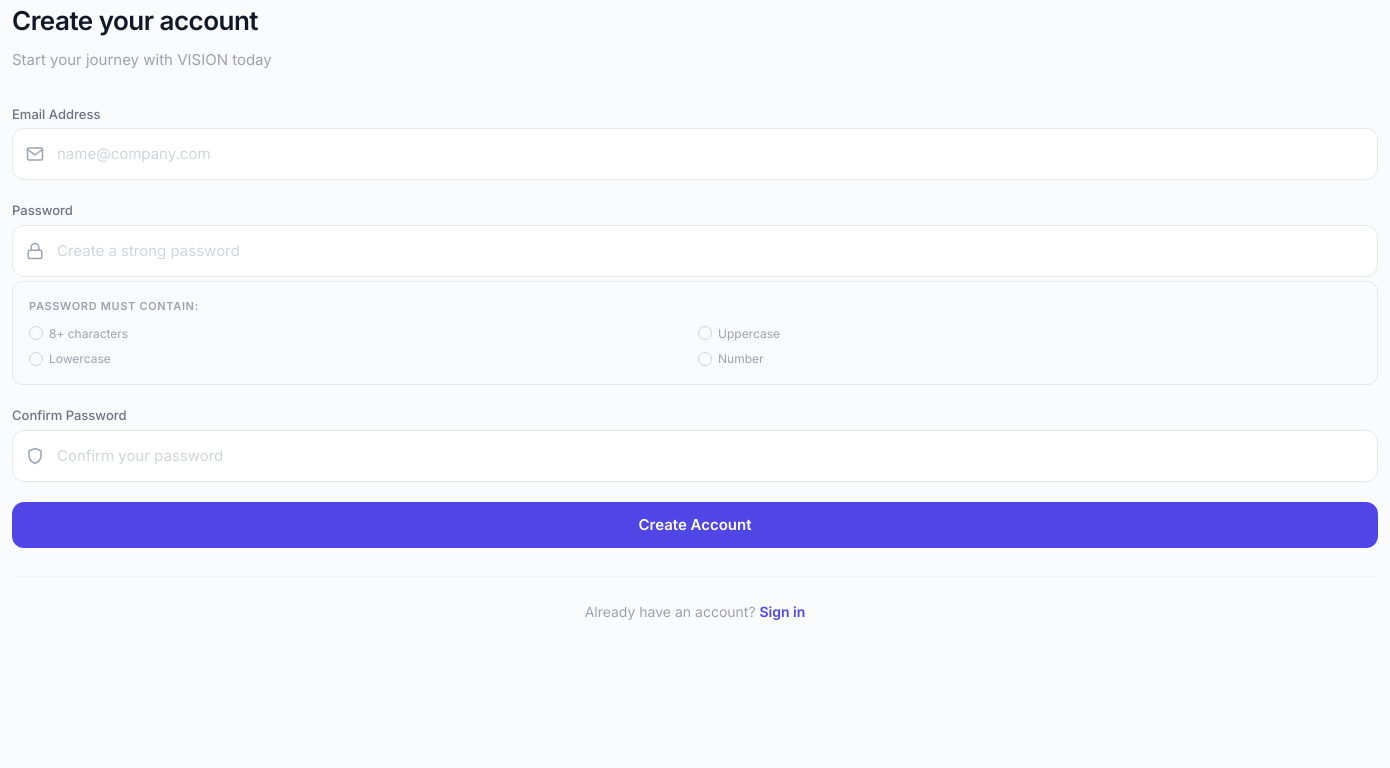
Test: RegisterForm › should show validation error for empty email
The image size is (1390, 768).
Step 1. Click the button "Create Account" → (695, 525), box [12, 502, 1378, 548]
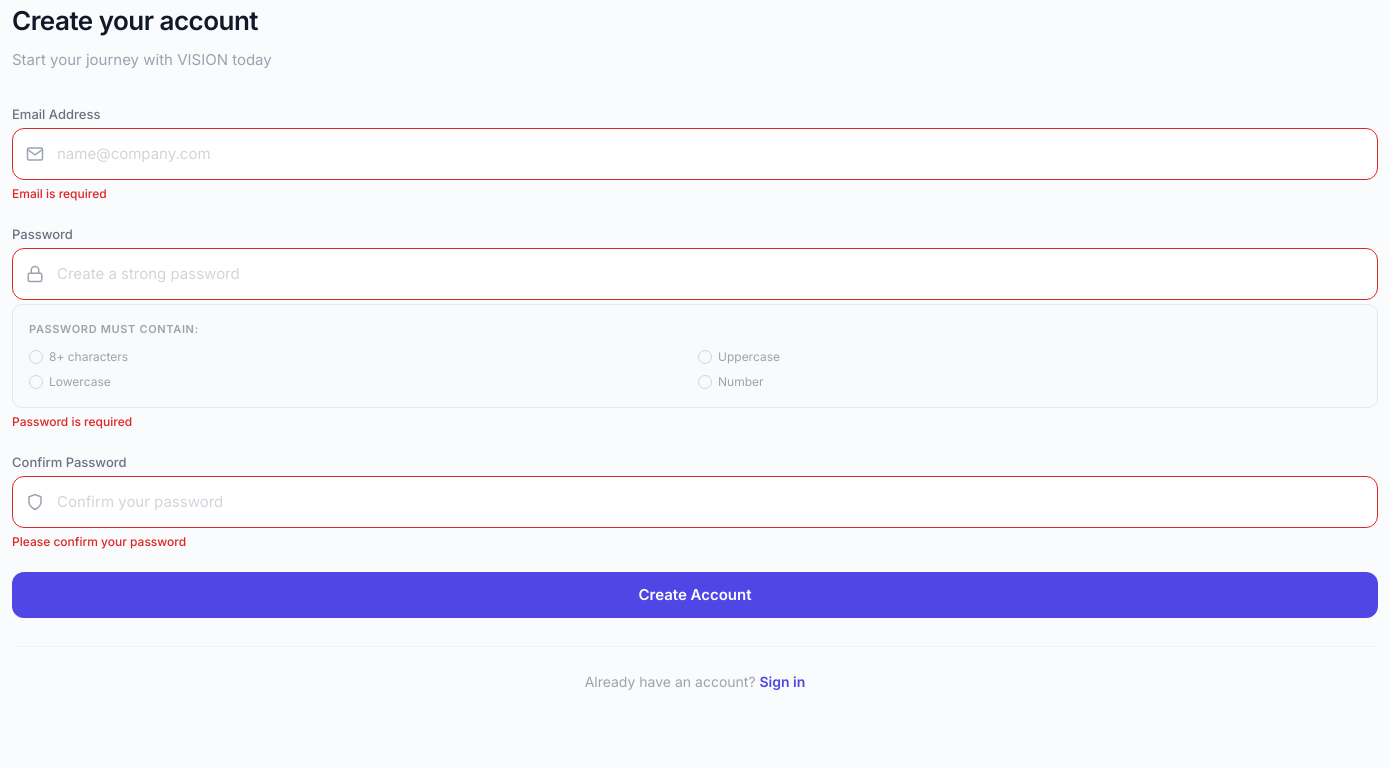
Expected: the text "Email is required" is shown, [12, 186, 107, 201]
